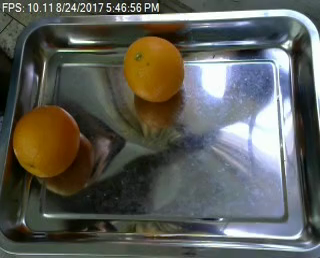Orange: (10, 106, 79, 179), (124, 36, 186, 103)
